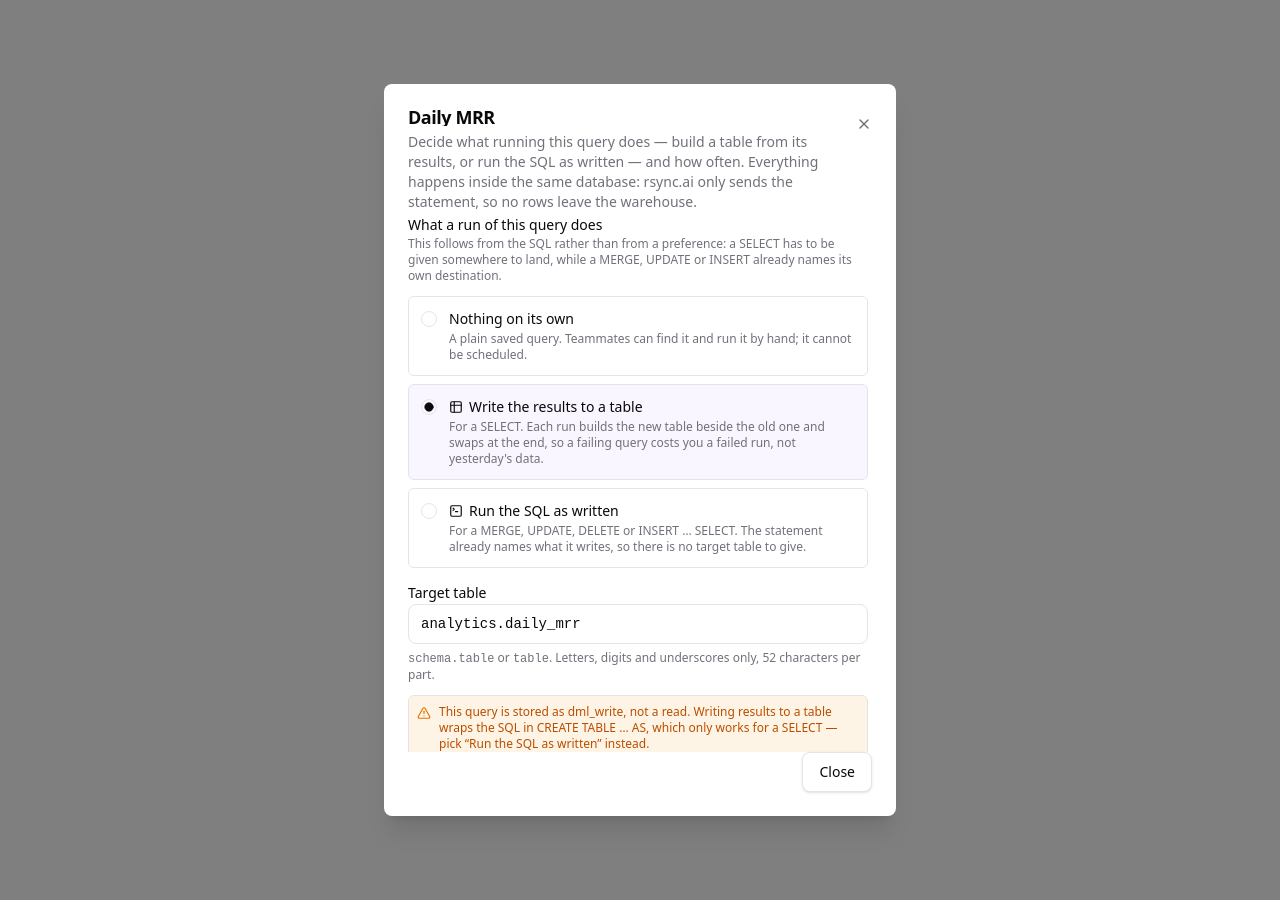
Test: SavedQueryModelDialog › warns when the chosen mode cannot work for the SQL that is stored
expect the text "stored as dml_write, not a read" is shown: met, box [439,703,838,752]
# ...and the converse: a SELECT run as written delivers its rows nowhere.
Click the 3rd radio button named "run the sql as written".
click(429, 511)  # box [421,503,437,519]
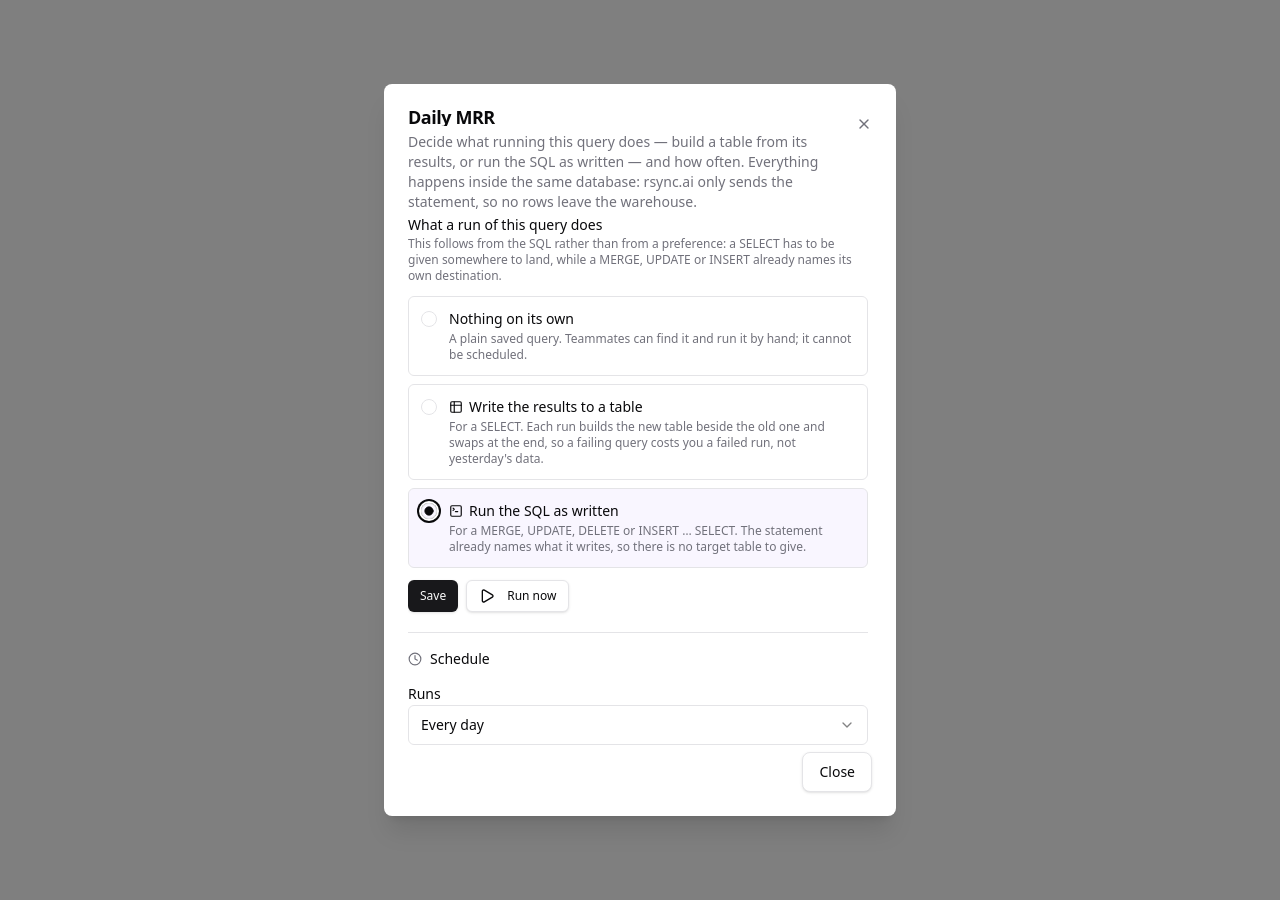
expect the text "stored as dml_write, not a read" is gone: met
